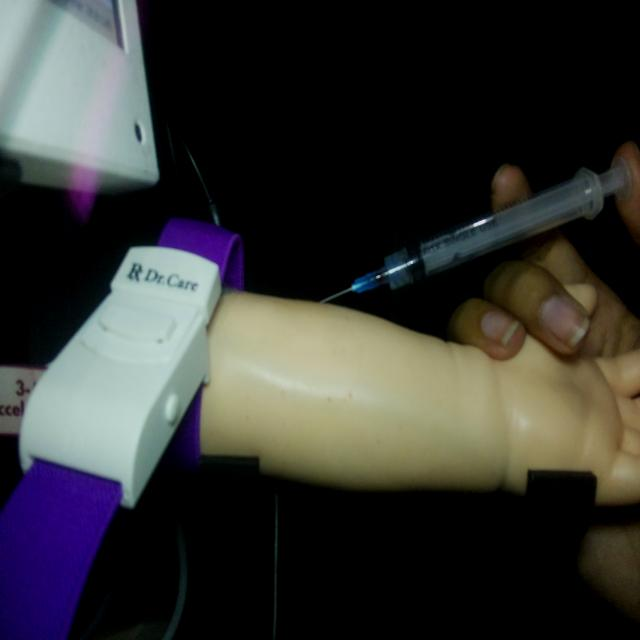16 degrees: (318, 148, 634, 306)
